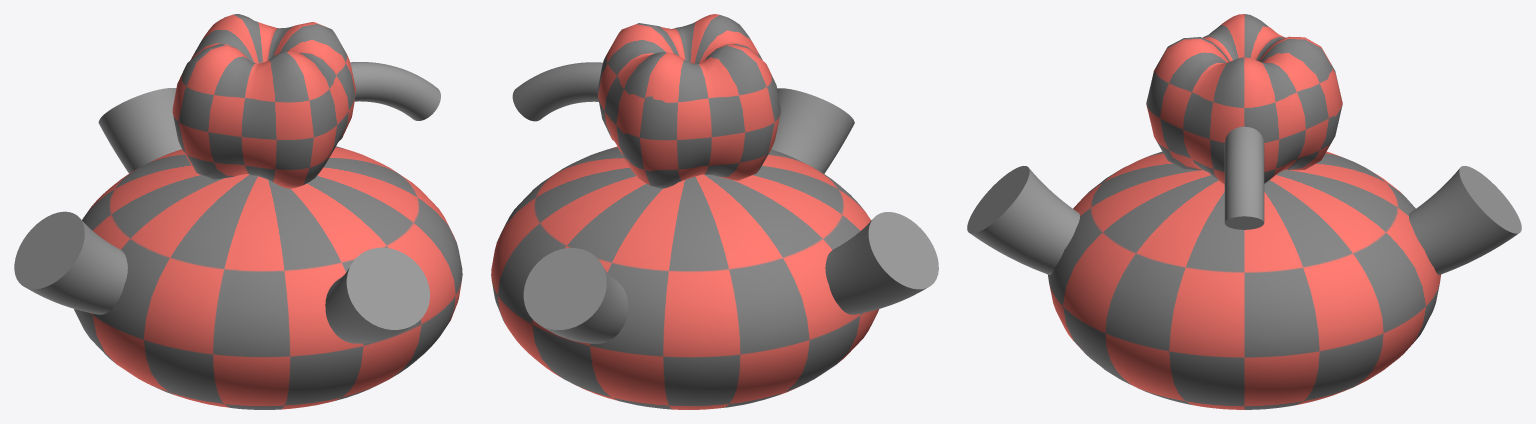
The picture shows the model from 3 angles, left to right: view 1: azimuth 30°, elevation 25°; view 2: azimuth 150°, elevation 25°; view 3: azimuth 270°, elevation 25°; orthographic projection.
Visible parts, largest first — view 1: Box001, Box002, Cone004, Cone002, Cone003, Cone001; view 2: Box001, Box002, Cone004, Cone003, Cone002, Cone001; view 3: Box001, Box002, Cone003, Cone002, Cone001.
Part boxes in pixels (x1,y1,x2,y2): Box001: [74, 146, 462, 409]; Box002: [172, 14, 355, 188]; Cone004: [14, 211, 127, 314]; Cone002: [325, 247, 429, 343]; Cone003: [98, 88, 181, 173]; Cone001: [350, 62, 440, 120]; Box001: [491, 146, 879, 409]; Box002: [597, 14, 780, 188]; Cone004: [825, 212, 938, 314]; Cone003: [523, 248, 628, 343]; Cone002: [771, 88, 854, 173]; Cone001: [512, 62, 602, 121]; Box001: [1047, 151, 1441, 409]; Box002: [1146, 14, 1342, 184]; Cone003: [1409, 166, 1521, 274]; Cone002: [967, 166, 1079, 274]; Cone001: [1224, 126, 1264, 229].
Size of the model in its own units: 48.37 by 38.44 by 56.4.
Materials: 2 (1 with a texture image).
